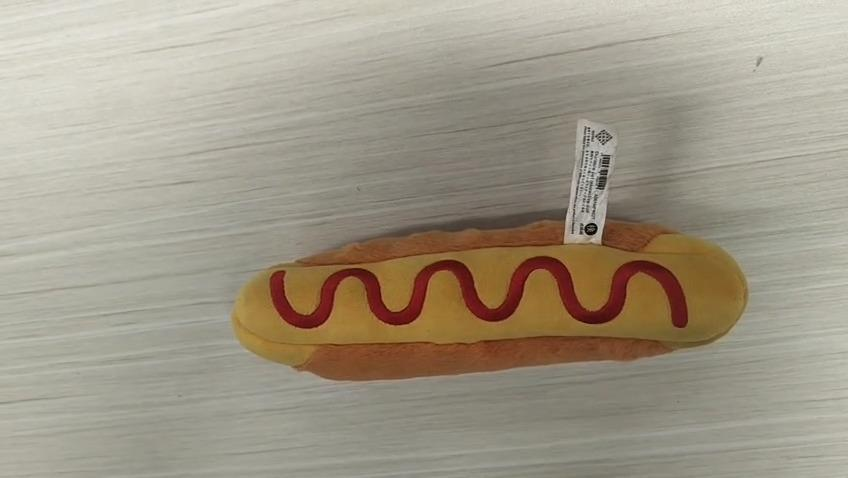hotdog: (231, 215, 749, 382)
